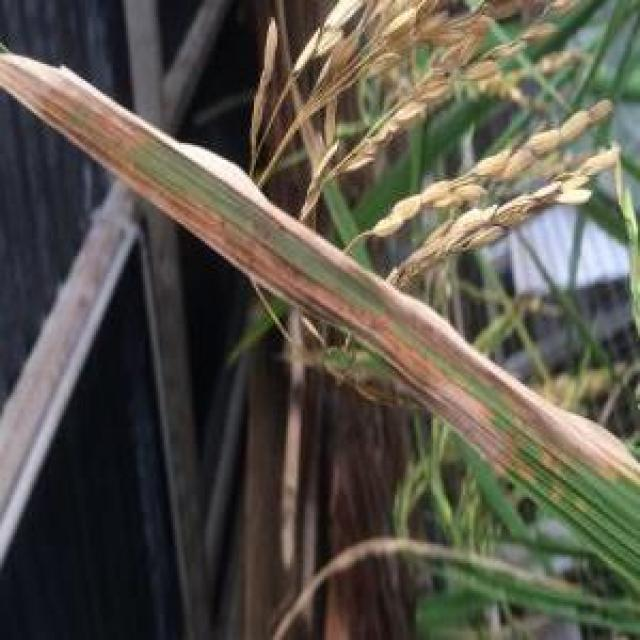leaf blight: (2, 47, 371, 346), (386, 298, 640, 504)
